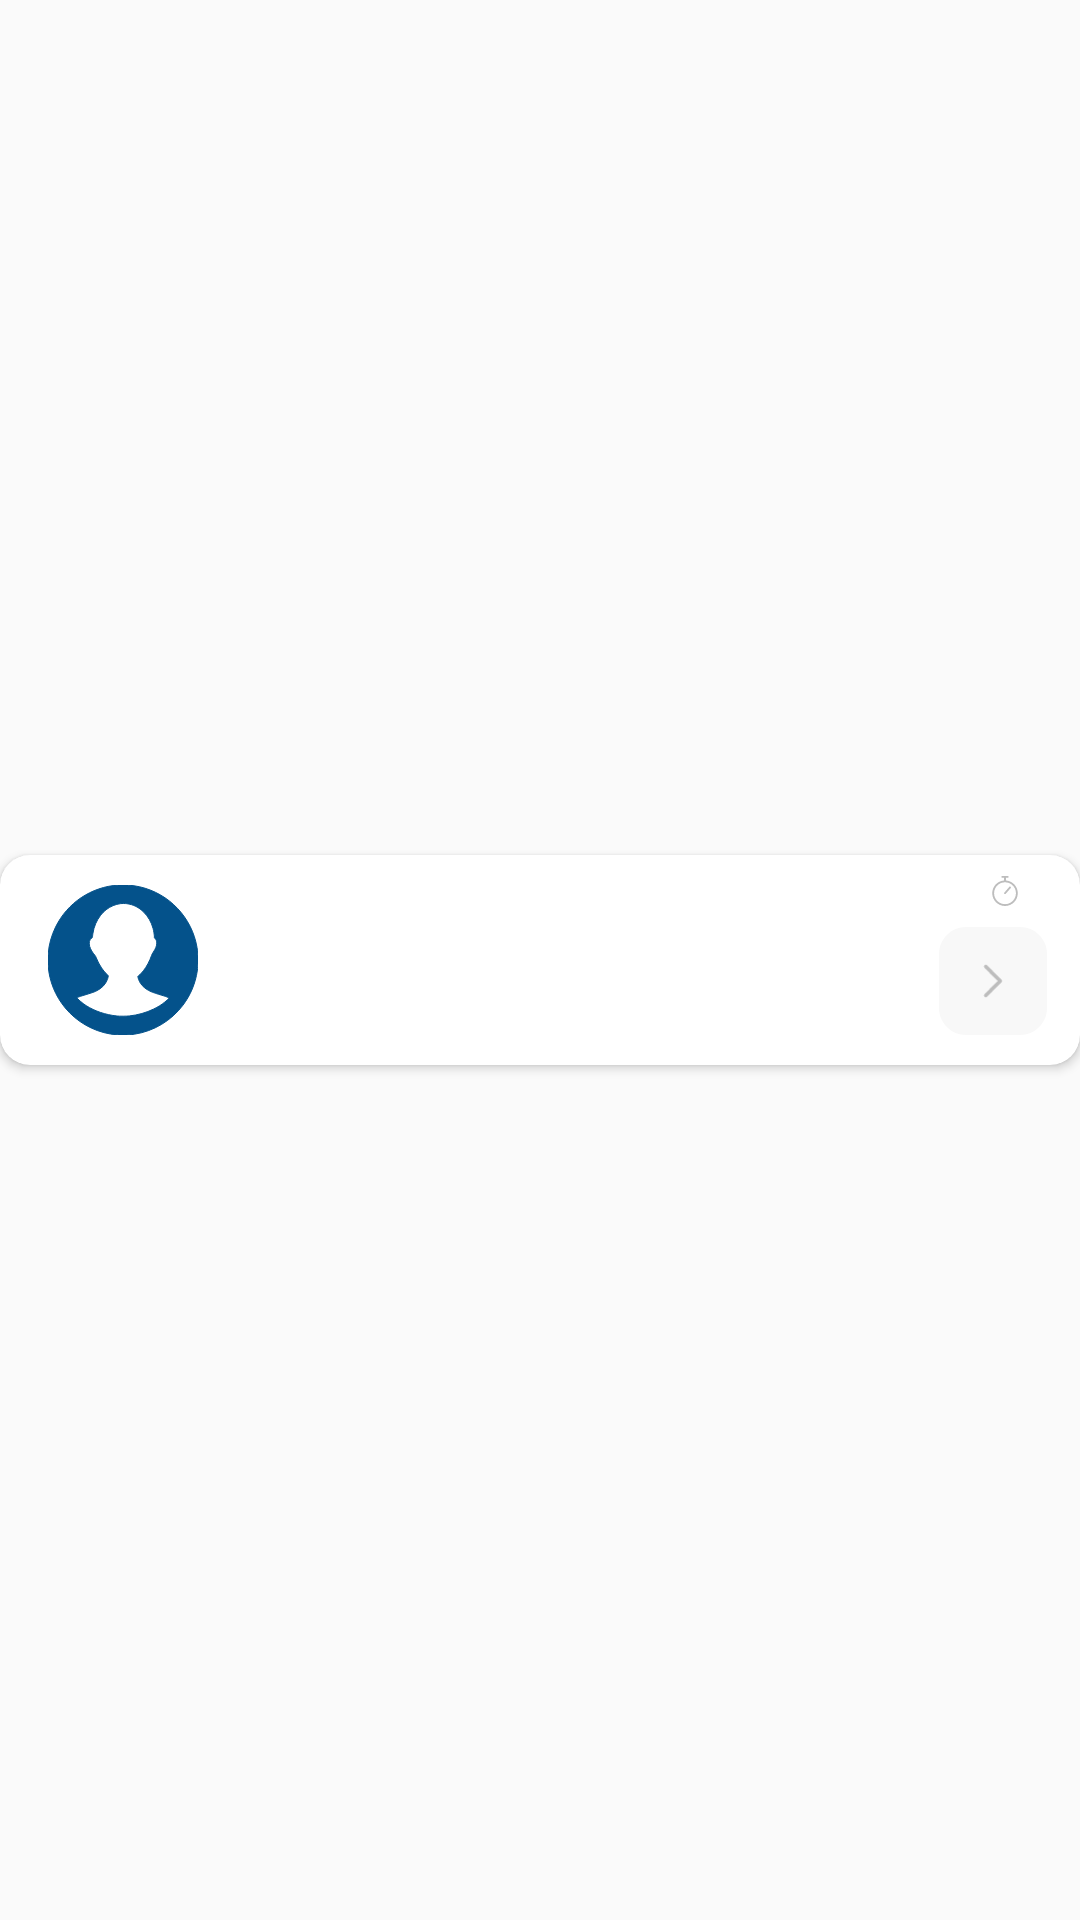

Screen size 1080w x 1920h. Icon name, then its center in pixels as (x,y):
timer: (1005,891)
user: (123,960)
